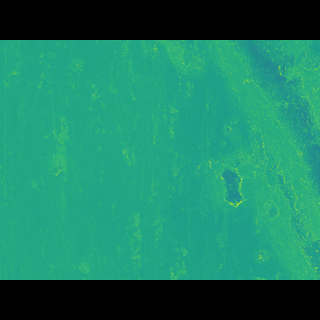Loch: (140, 69, 320, 250)
